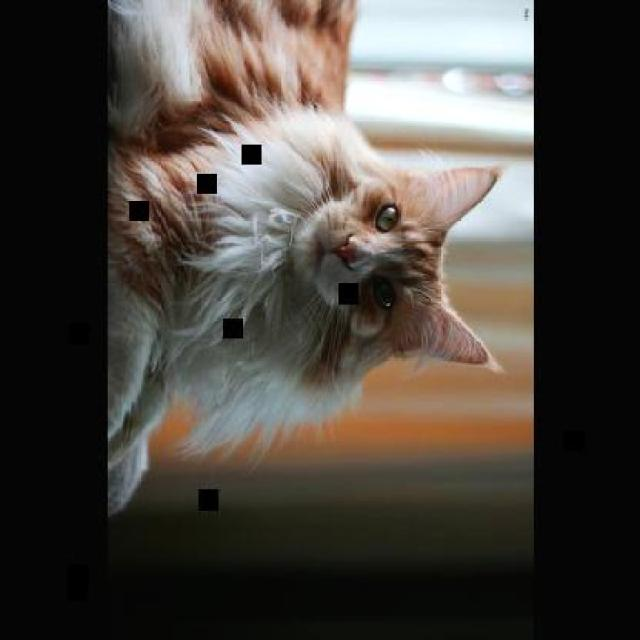unauthorized: (104, 0, 504, 517)
